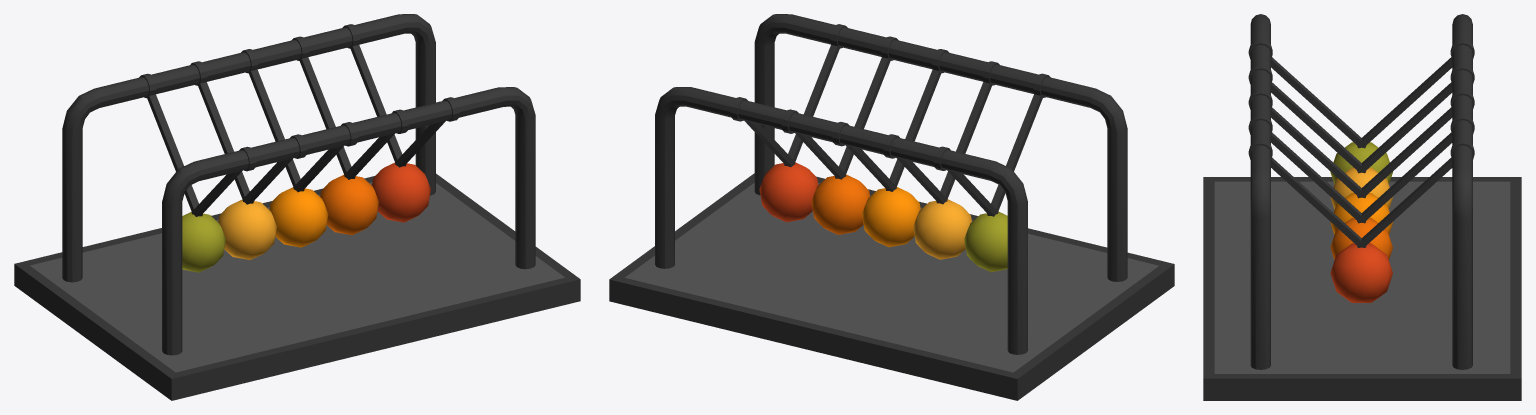
The model's file is Newton_Cradle.fbx.
3 views of the same model, side by side, from view 1: azimuth 30°, elevation 25°; view 2: azimuth 150°, elevation 25°; view 3: azimuth 270°, elevation 25° (orthographic).
Visible parts, largest first — view 1: Newton_Cradle; view 2: Newton_Cradle; view 3: Newton_Cradle.
Boxes of the visible parts, box(x1,y1,x2,y2) form: Newton_Cradle: box(14, 14, 580, 400); Newton_Cradle: box(609, 14, 1174, 400); Newton_Cradle: box(1203, 14, 1521, 400).
Bounding box in the file's own units: 23.17 × 11.19 × 15.45.
1 material, 1 textured.
